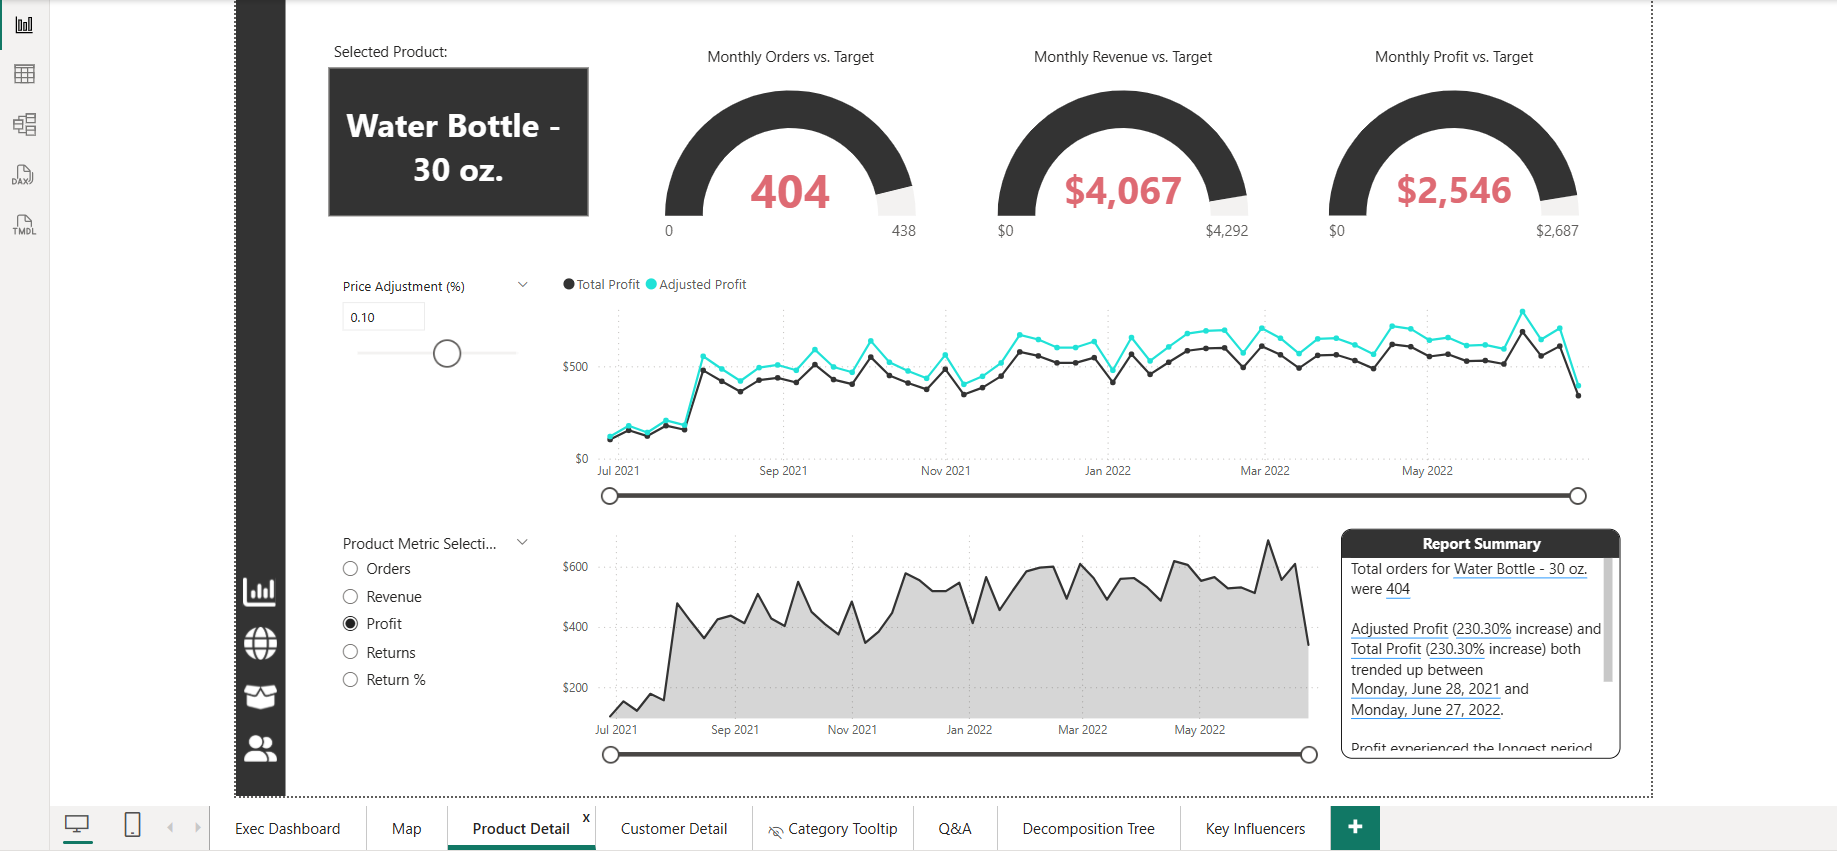

The page's visual inventory and layout, read from the dashboard file:
{"tool":"powerbi","page":{"name":"Product Detail","canvas":[1280,720],"ordinal":2},"visuals":[{"type":"shape","box":[0,0,45,720],"z":0},{"type":"actionButton","box":[2.5,516.7,45.6,37.8],"z":0,"group":"g1"},{"type":"gauge","title":"Monthly Orders vs. Target","fields":{"MaxValue":["Measure Table.Order Target"],"Y":["Measure Table.Total Orders"]},"box":[383.7,41.5,236.9,203.7],"z":1000},{"type":"actionButton","box":[3.3,563.4,45.6,37.8],"z":1000,"group":"g1"},{"type":"gauge","title":"Monthly Revenue vs. Target","fields":{"MaxValue":["Measure Table.Revenue Target"],"Y":["Measure Table.Total Revenue"]},"box":[683.5,41.5,236.9,203.7],"z":2000},{"type":"actionButton","box":[3.3,611.1,45.6,37.8],"z":2000,"group":"g1"},{"type":"gauge","title":"Monthly Profit vs. Target","fields":{"MaxValue":["Measure Table.Profit Target"],"Y":["Measure Table.Total Profit"]},"box":[983.4,41.8,236.2,203.5],"z":3000},{"type":"actionButton","box":[3.3,657.8,45.6,37.8],"z":3000,"group":"g1"},{"type":"lineChart","title":"Profit Trending","fields":{"Category":["Calendar Lookup.Date Hierarchy.Year","Calendar Lookup.Date Hierarchy.Start of Month","Calendar Lookup.Date Hierarchy.Start of Week","Calendar Lookup.Date Hierarchy.Date"],"Y":["Measure Table.Total Profit","Measure Table.Adjusted Profit"]},"box":[290.5,237.4,952.8,221.5],"z":4000},{"type":"areaChart","title":"Return Trending","fields":{"Category":["Calendar Lookup.Date Hierarchy.Year","Calendar Lookup.Date Hierarchy.Start of Month","Calendar Lookup.Date Hierarchy.Start of Week","Calendar Lookup.Date Hierarchy.Date"],"Y":["Measure Table.Total Profit"]},"box":[290.5,471.3,708.7,221.5],"z":5000},{"type":"card","fields":{"Values":["Min(Product Lookup.ProductName)"]},"box":[83.6,61,235.1,134.5],"z":6000},{"type":"textbox","box":[83.6,32.8,136.8,36.2],"z":7000},{"type":"group","id":"g1","title":"Navigation Buttons","box":[2.5,516.7,46.4,178.9],"z":8000},{"type":"slicer","fields":{"Values":["Price Adjustment (%).Price Adjustment (%)"]},"box":[83.6,245.3,193.3,123.2],"z":9000},{"type":"slicer","fields":{"Values":["Product Metric Selection.Product Metric Selection"]},"box":[83.6,477,193.3,180.8],"z":10000},{"type":"textbox","title":"Report Summary","box":[999.2,478.1,253.2,208],"z":11000}]}

Visuals, with their boxes on the page's 1280x720 design canvas (x1, y1, x2, y2). These are canvas units, not pixel positions in the 1837x851 screenshot, which may show the page scaled, cropped or inside an application window:
shape: Rect(0, 0, 45, 720)
actionButton: Rect(2, 517, 48, 554)
"Monthly Orders vs. Target" gauge: Rect(384, 42, 621, 245)
actionButton: Rect(3, 563, 49, 601)
"Monthly Revenue vs. Target" gauge: Rect(684, 42, 920, 245)
actionButton: Rect(3, 611, 49, 649)
"Monthly Profit vs. Target" gauge: Rect(983, 42, 1220, 245)
actionButton: Rect(3, 658, 49, 696)
"Profit Trending" lineChart: Rect(290, 237, 1243, 459)
"Return Trending" areaChart: Rect(290, 471, 999, 693)
card - Min(Product Lookup.ProductName): Rect(84, 61, 319, 196)
textbox: Rect(84, 33, 220, 69)
"Navigation Buttons" group: Rect(2, 517, 49, 696)
slicer - Price Adjustment (%).Price Adjustment (%): Rect(84, 245, 277, 368)
slicer - Product Metric Selection.Product Metric Selection: Rect(84, 477, 277, 658)
"Report Summary" textbox: Rect(999, 478, 1252, 686)
